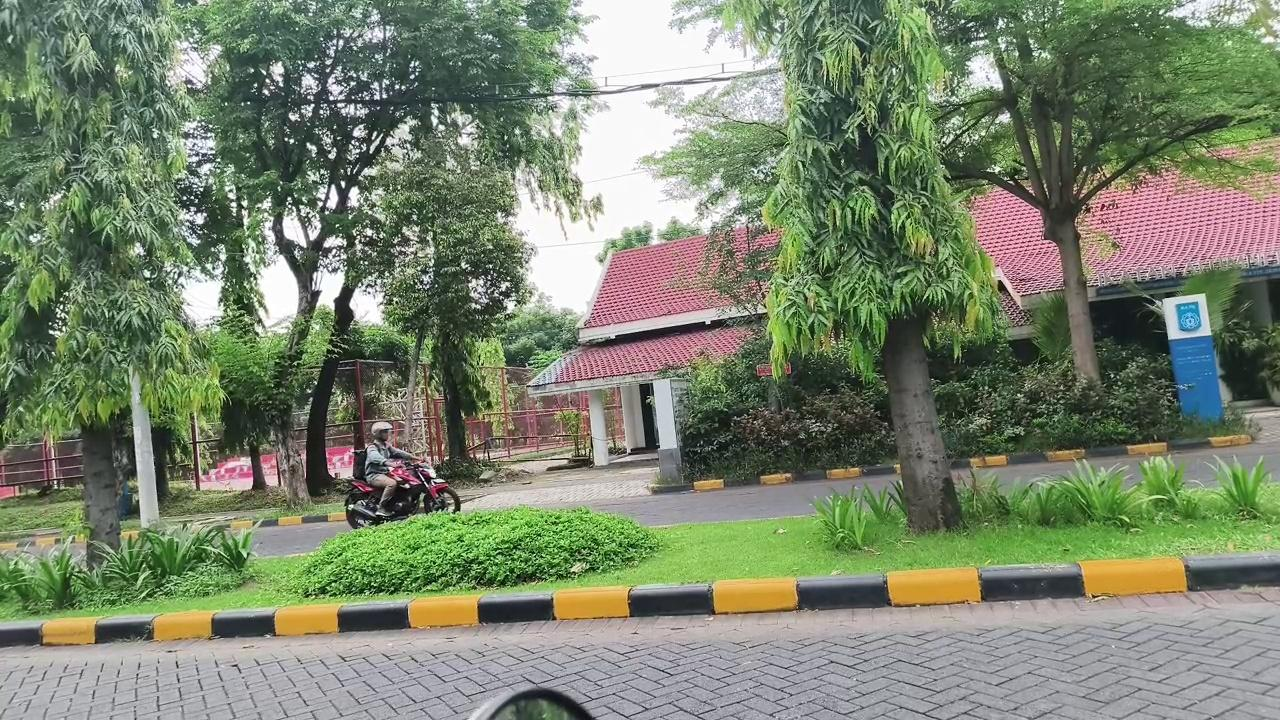Helmet: (365, 422, 420, 516)
Motor: (345, 464, 460, 528)
